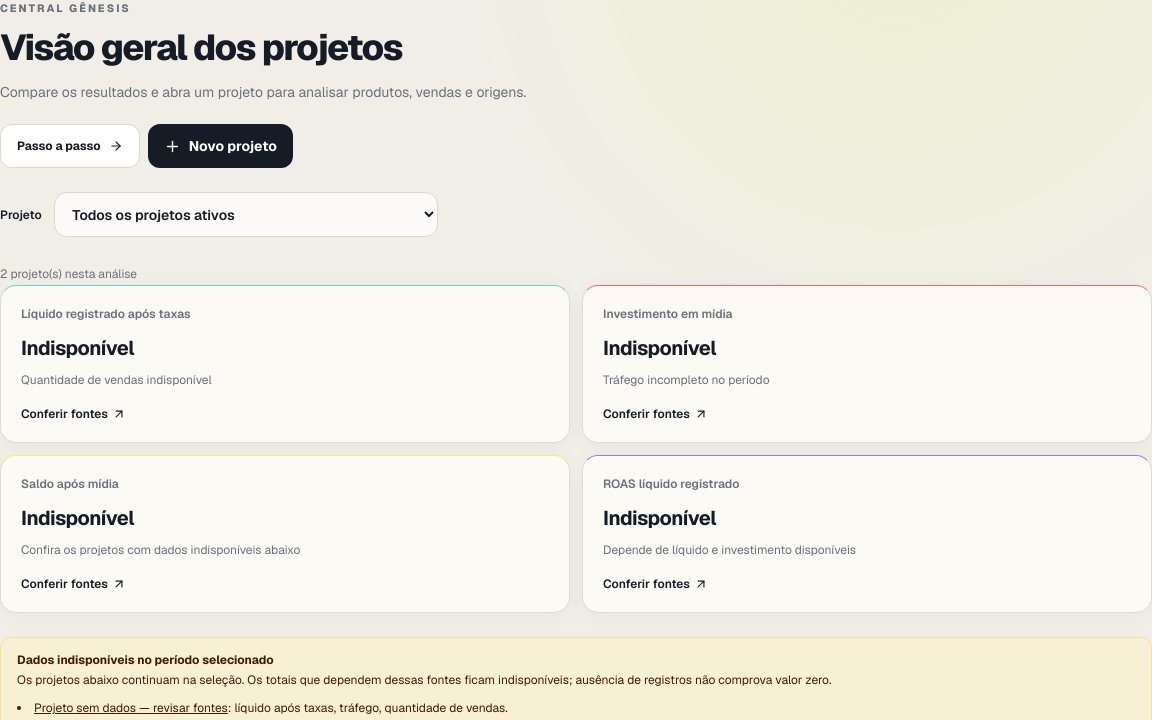
overview financial integrity › identifica os projetos que impedem o consolidado e mantém a seleção explícita
Expected: the text "Indisponível" below "Líquido registrado após taxas" is shown, [21,335,134,361]
Expected: the text "Indisponível" below "Saldo após mídia" is shown, [21,505,134,531]
Select "Projeto completo" in the dropdown named "Projeto na visão geral" at (246, 215), box [54,192,438,237]
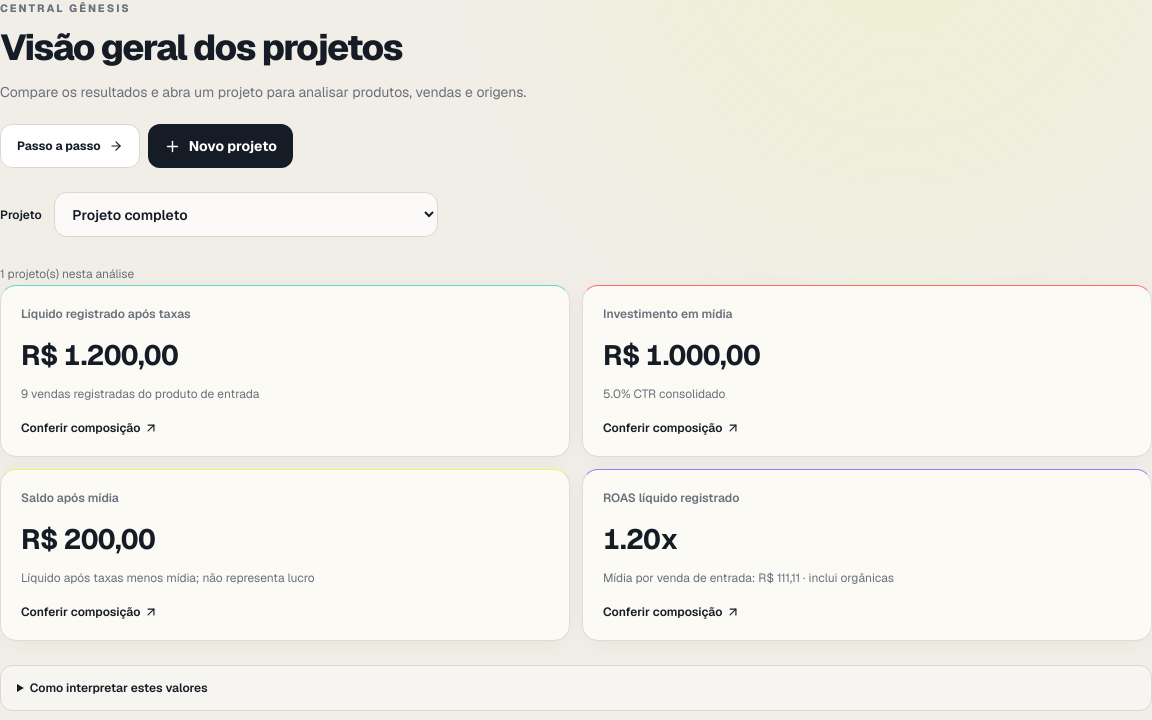
Expected: the text "R$ 1.200,00" is shown, [21,337,178,373]
Expected: the text "R$ 200,00" is shown, [21,521,155,557]
Expected: the text "1.20x" is shown, [603,521,678,557]
